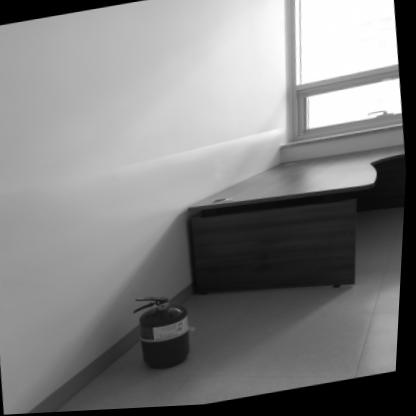FE: (131, 289, 200, 375)
